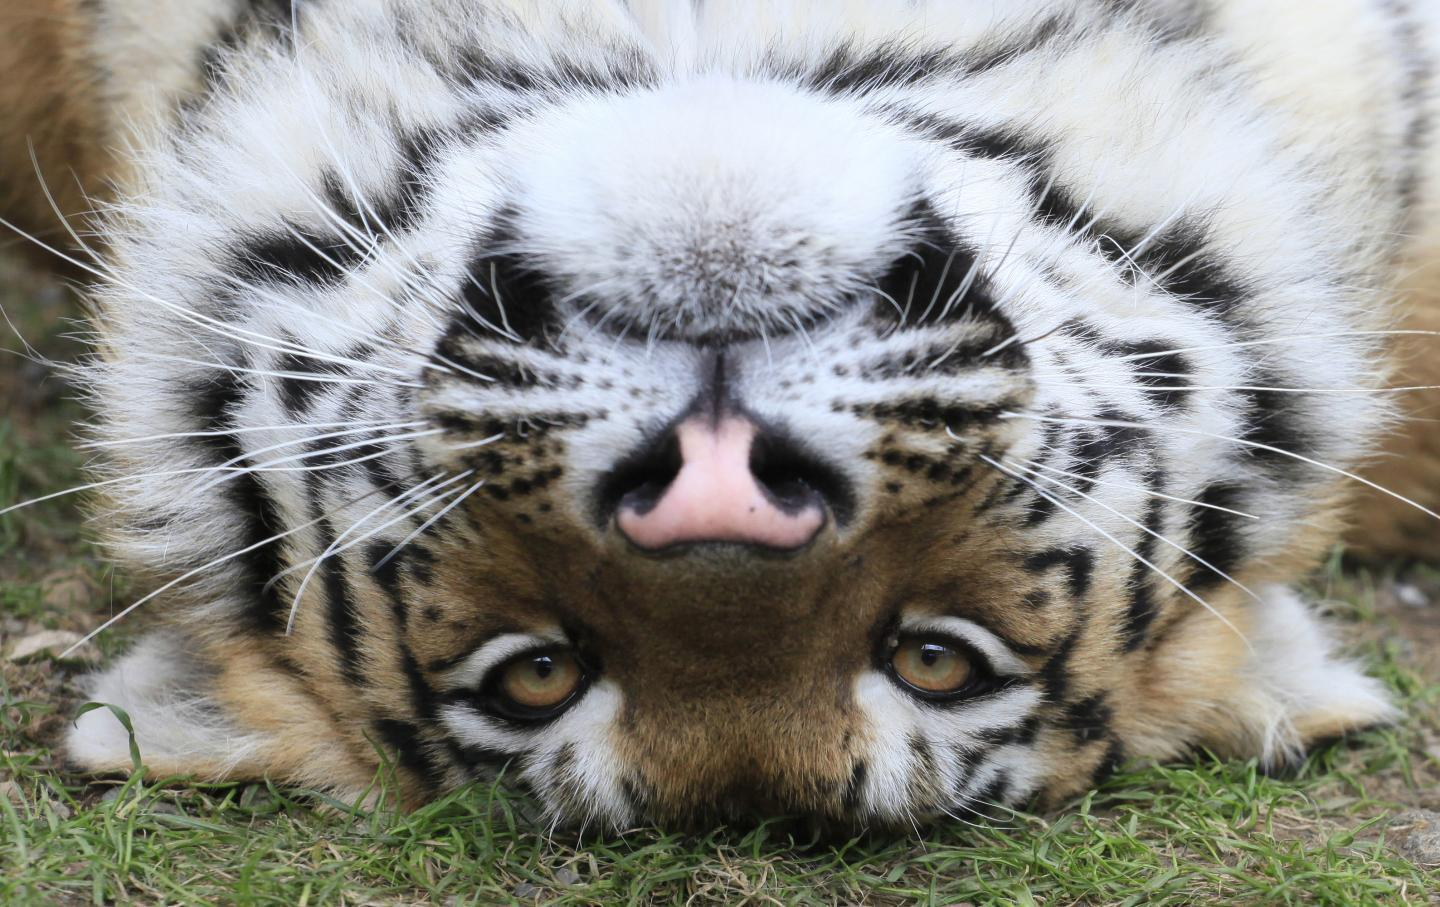Tiger: (44, 1, 1434, 806)
